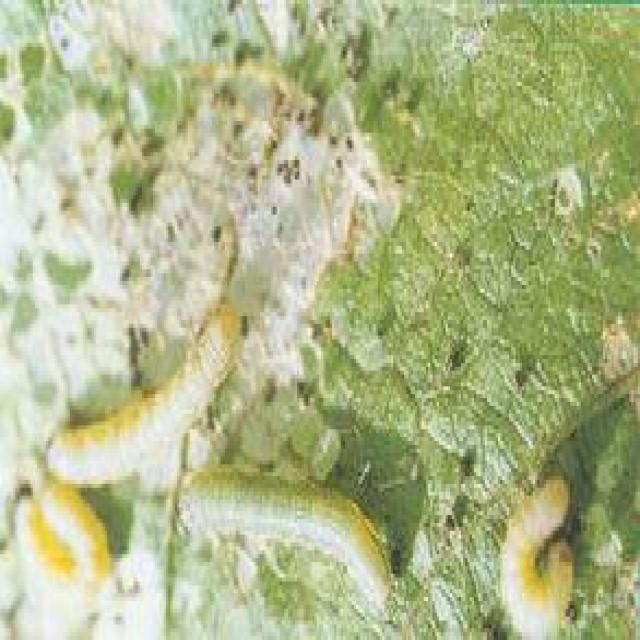BeetArmyWorm-Larva-: (44, 296, 249, 491), (164, 461, 400, 612), (490, 456, 574, 636)
